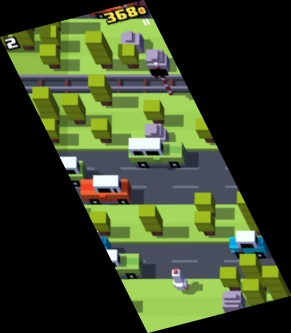car: (127, 137, 188, 169), (32, 156, 86, 187), (90, 248, 142, 279), (79, 174, 131, 204), (228, 230, 268, 258), (89, 1, 153, 18), (77, 230, 112, 253)
duck: (170, 267, 189, 292)
light off: (149, 61, 175, 96)
rail: (14, 74, 191, 92)
rock: (144, 49, 171, 74), (144, 48, 170, 73), (120, 31, 145, 55), (222, 290, 246, 314), (120, 31, 144, 54), (143, 123, 168, 145)
tree: (236, 190, 267, 238), (263, 264, 291, 313), (32, 86, 63, 127), (84, 31, 115, 70), (238, 252, 268, 291), (61, 91, 87, 126), (87, 73, 113, 106), (241, 278, 265, 313), (138, 204, 164, 236), (11, 19, 36, 51), (38, 24, 62, 52), (88, 210, 112, 237), (40, 1, 61, 31), (194, 210, 217, 237), (194, 118, 218, 143), (90, 117, 112, 144), (39, 43, 61, 69), (118, 43, 140, 69), (143, 99, 165, 125), (38, 118, 60, 144), (194, 192, 216, 218), (220, 266, 242, 292), (1, 30, 9, 50)
